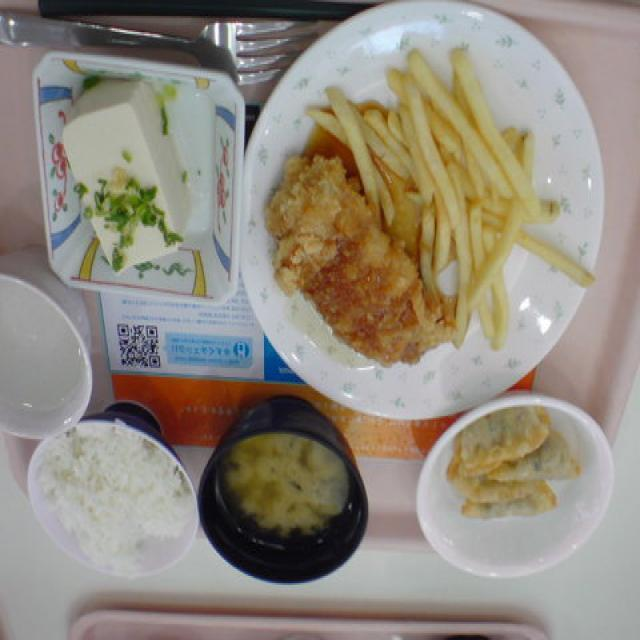French Fries: (366, 52, 564, 336)
Rice: (39, 440, 178, 566)
